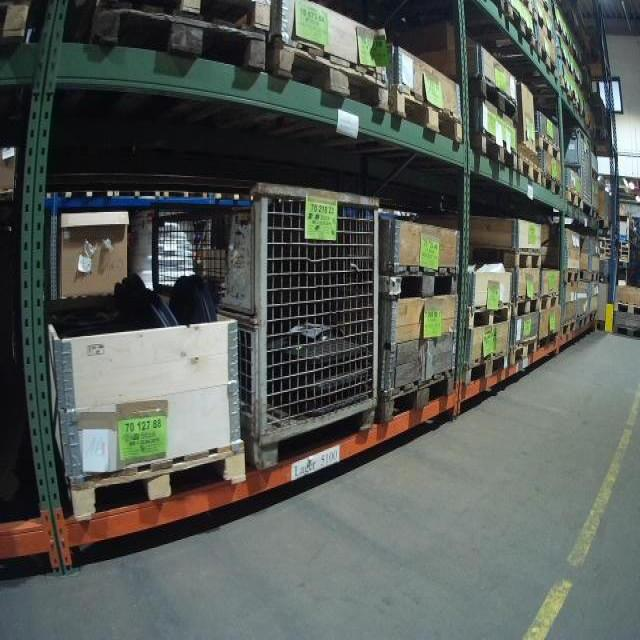pallet: (82, 3, 270, 71), (72, 437, 245, 505), (264, 30, 390, 123), (381, 364, 459, 426), (395, 89, 466, 151), (78, 1, 270, 23), (370, 259, 461, 301), (463, 11, 540, 53), (469, 74, 522, 126), (472, 125, 518, 168), (470, 246, 545, 269), (464, 348, 510, 384), (2, 2, 37, 40), (467, 301, 512, 329), (526, 15, 560, 50), (528, 51, 562, 86), (553, 75, 581, 114), (513, 290, 542, 323), (556, 47, 581, 85), (517, 148, 543, 183), (535, 132, 562, 162), (512, 331, 536, 358), (544, 174, 563, 203), (612, 318, 638, 339), (537, 290, 561, 311), (539, 326, 559, 351), (559, 266, 582, 285), (564, 185, 582, 208), (576, 311, 590, 339), (613, 301, 639, 315), (590, 304, 603, 329), (560, 317, 577, 336), (582, 266, 602, 282), (533, 13, 560, 23)
stillage: (142, 182, 378, 467), (559, 123, 595, 213), (591, 96, 617, 146)
